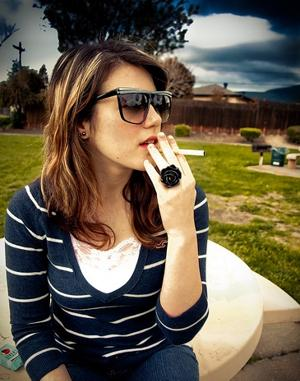person: (6, 40, 209, 381)
